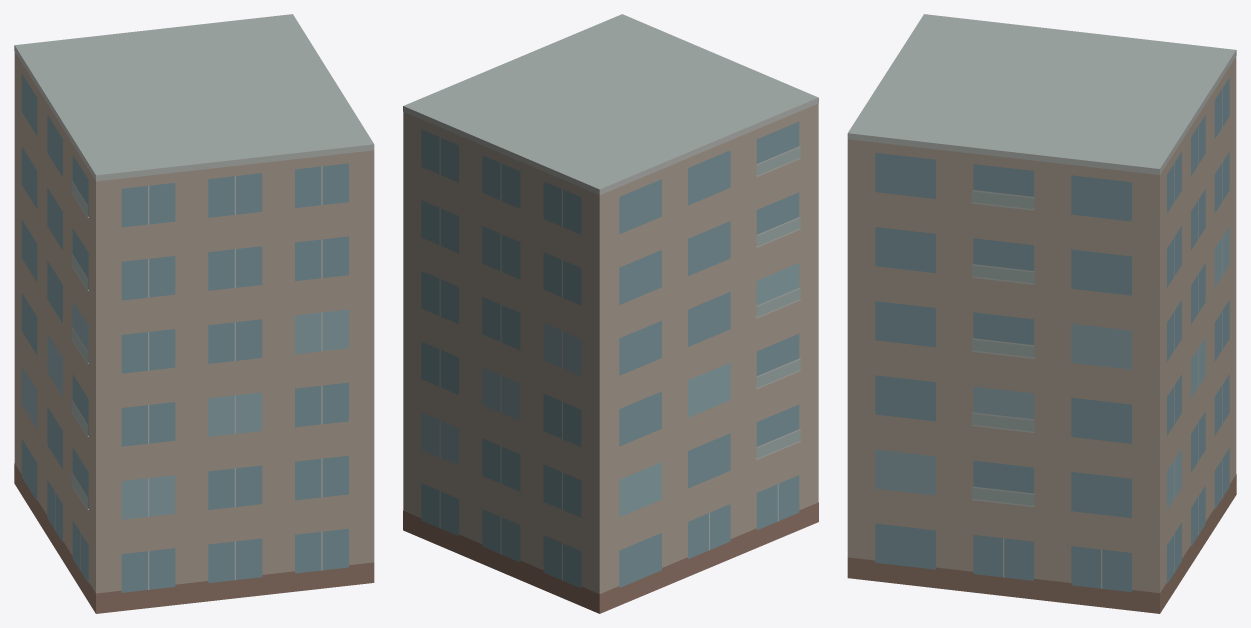
Rendered from survey-upis-32633894.glb.
3 renders of one model, left to right at view 1: azimuth 30°, elevation 25°; view 2: azimuth 150°, elevation 25°; view 3: azimuth 270°, elevation 25°, orthographic. The views are drawn at different scales.
Visible parts, largest first — view 1: survey-upis-32633894.tmp; view 2: survey-upis-32633894.tmp; view 3: survey-upis-32633894.tmp.
Part boxes in pixels (x1,y1,x2,y2): survey-upis-32633894.tmp: [14, 14, 374, 613]; survey-upis-32633894.tmp: [403, 14, 818, 613]; survey-upis-32633894.tmp: [847, 14, 1236, 613].
Bounding box in the file's own units: 13.39 × 17.9 × 14.19.
